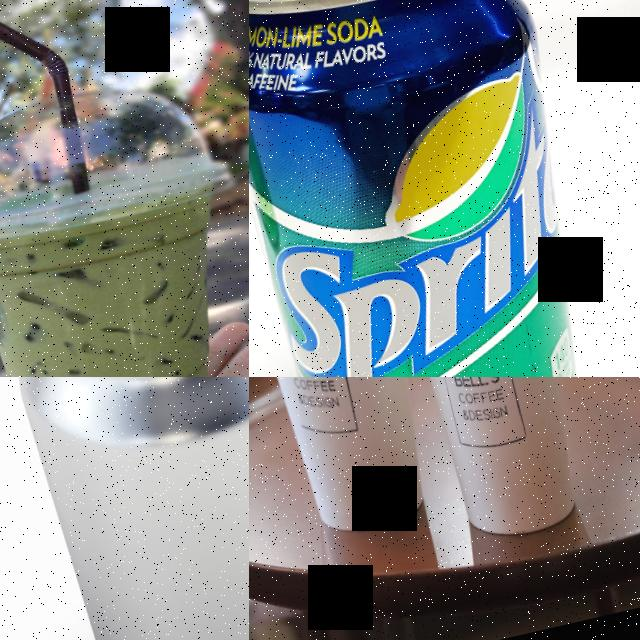can: (249, 0, 640, 377), (0, 377, 249, 640)
cup: (0, 64, 249, 377), (391, 377, 609, 552), (249, 377, 462, 548)
